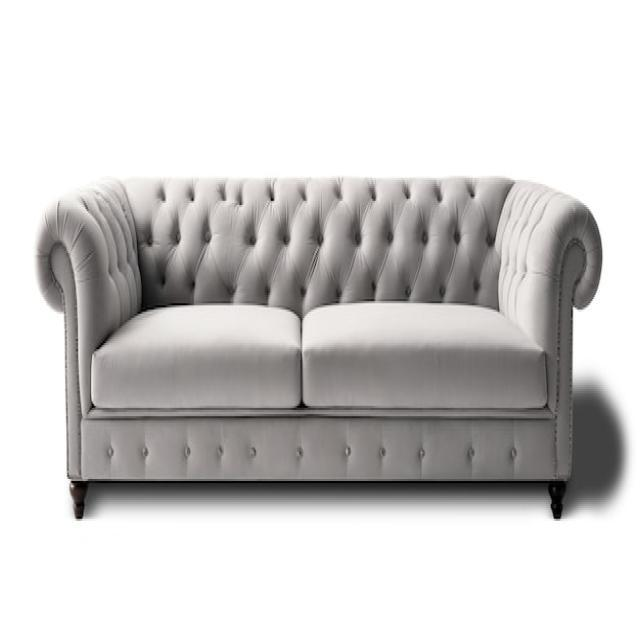sofa: (34, 174, 602, 520)
